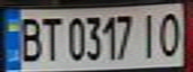0: (63, 14, 84, 62)
1: (100, 11, 118, 61)
3: (81, 12, 103, 62)
7: (115, 11, 136, 61)
B: (15, 14, 45, 63)
I: (136, 9, 163, 60)
O: (154, 8, 184, 59)
T: (36, 14, 63, 62)
